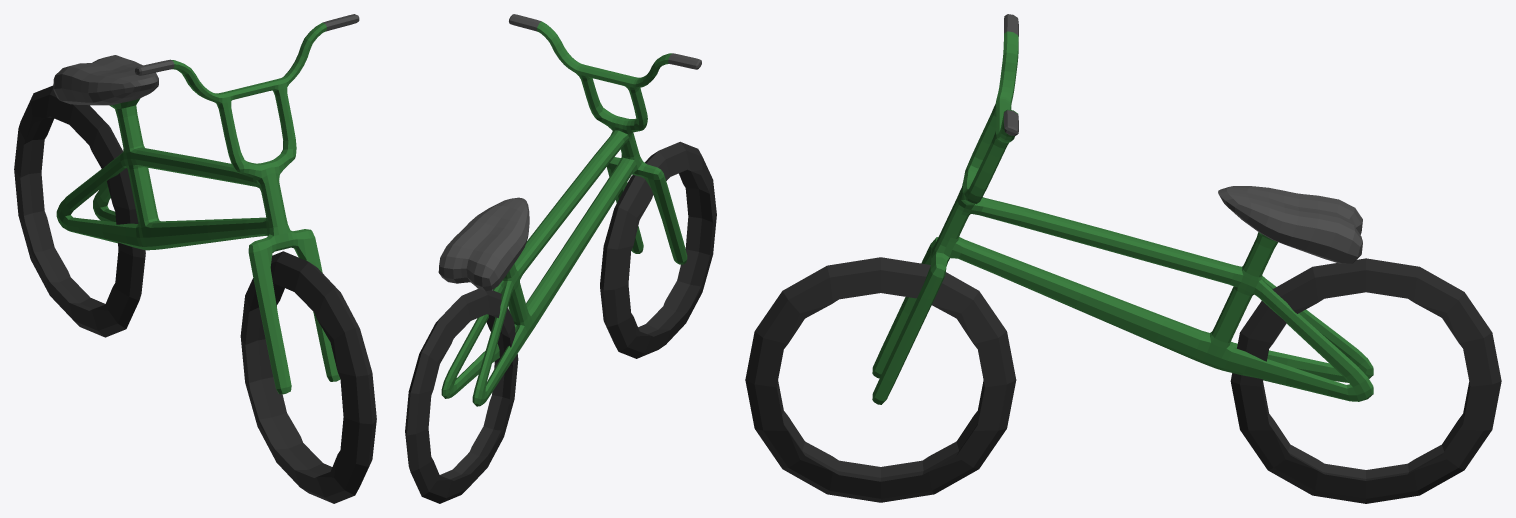
File: Bike.fbx
3 views of the same model, side by side, from view 1: azimuth 30°, elevation 25°; view 2: azimuth 150°, elevation 25°; view 3: azimuth 270°, elevation 25° (orthographic). The views are drawn at different scales.
Visible parts, largest first — view 1: Cube.008, Cube, Cube.001; view 2: Cube.008, Cube, Cube.001; view 3: Cube.008, Cube, Cube.001.
Boxes of the visible parts, x1,y1,x2,y2 form: Cube.008: (53,14,359,394); Cube: (240,251,376,503); Cube.001: (14,85,145,337); Cube.008: (438,14,701,406); Cube: (600,141,716,358); Cube.001: (405,289,518,503); Cube.008: (872,14,1373,404); Cube: (745,257,1016,502); Cube.001: (1230,258,1501,503).
Bounding box in the file's own units: 90.89 × 161 × 254.
